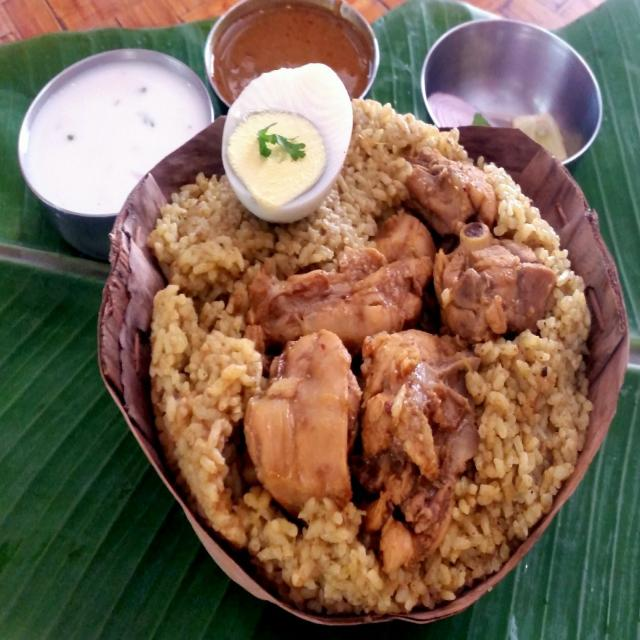Biryani: (146, 59, 593, 616)
